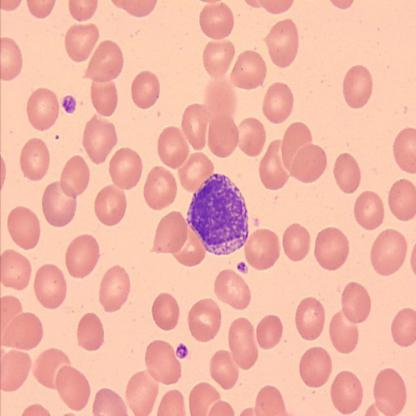Myelocyte: (188, 175, 251, 256)
